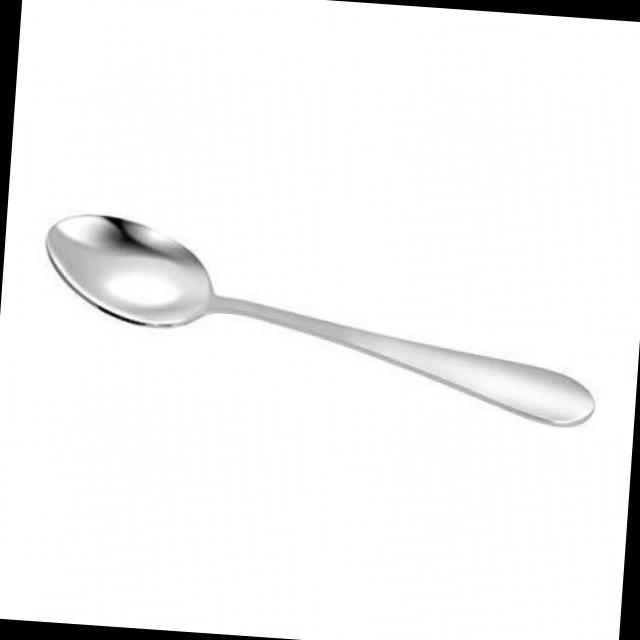spoon: (29, 201, 616, 460)
